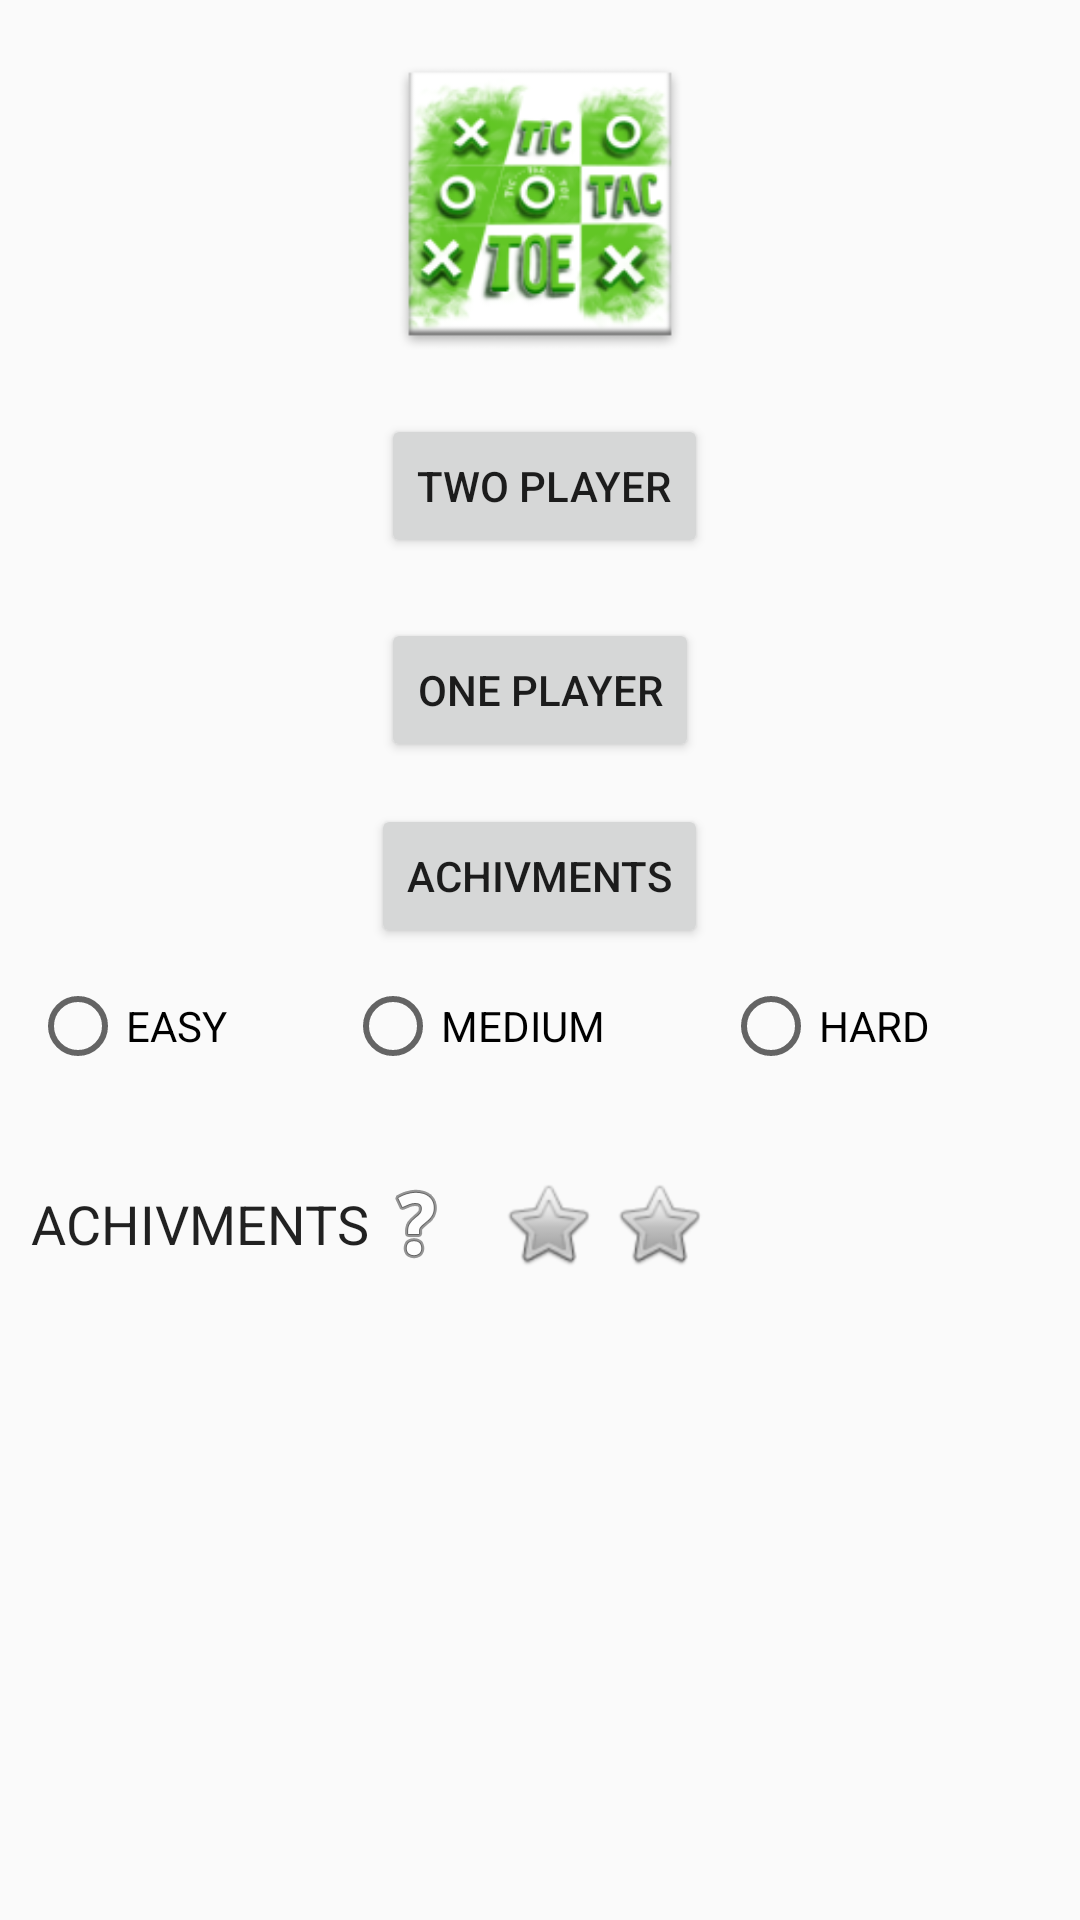

Named icons in this screenshot (1080w x 1920h) and their bounding boxes, (x1, y1, x2, y2):
star off: (509, 1186, 589, 1264), (620, 1186, 700, 1264)
